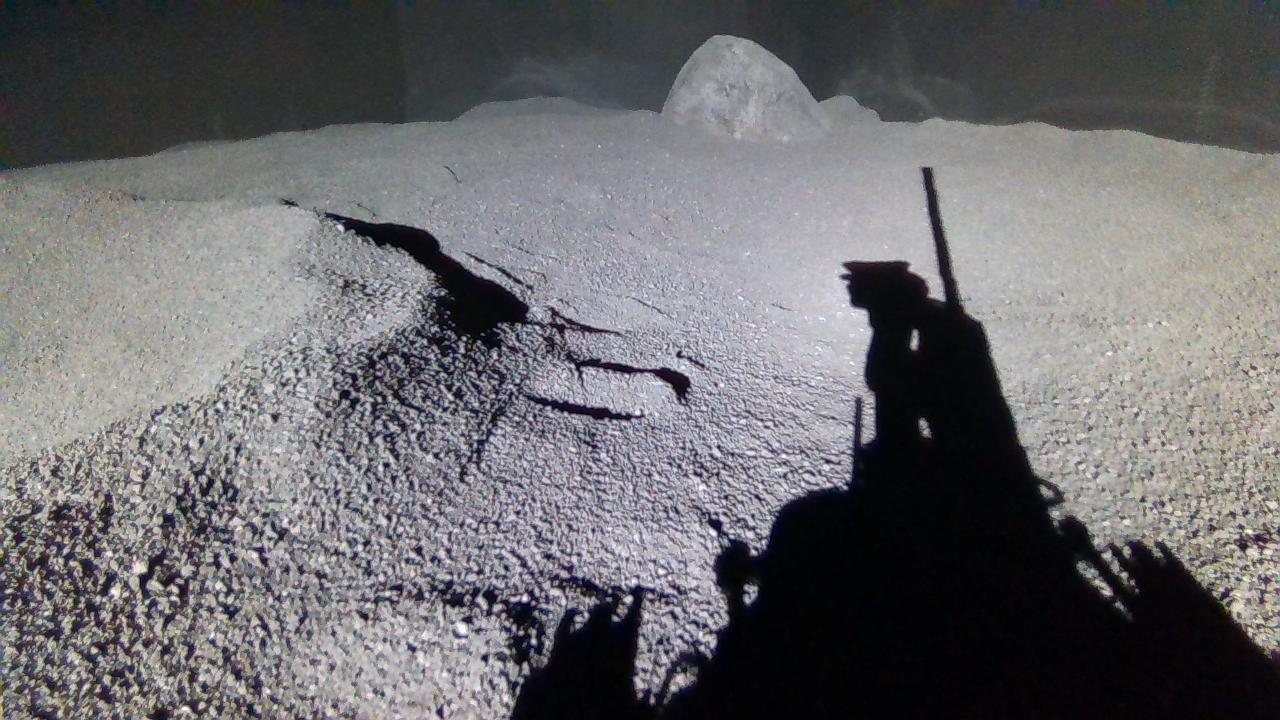rock: (663, 34, 829, 140)
